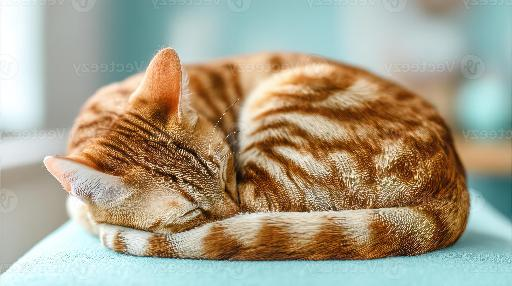cat_sleeping: (44, 47, 470, 261)
